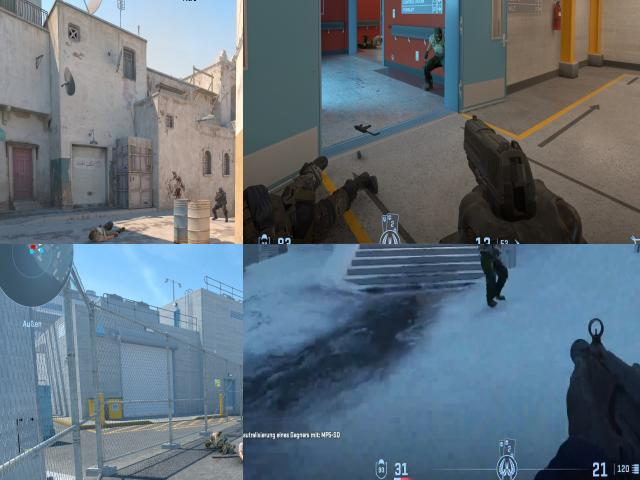CT: (215, 185, 228, 220)
CT-Head: (218, 186, 224, 192)
Dead: (243, 155, 374, 244), (90, 221, 126, 242), (205, 430, 235, 455), (358, 34, 383, 51), (236, 442, 243, 472)
T: (428, 26, 444, 92), (477, 244, 505, 276)
T-Head: (434, 26, 444, 44)
